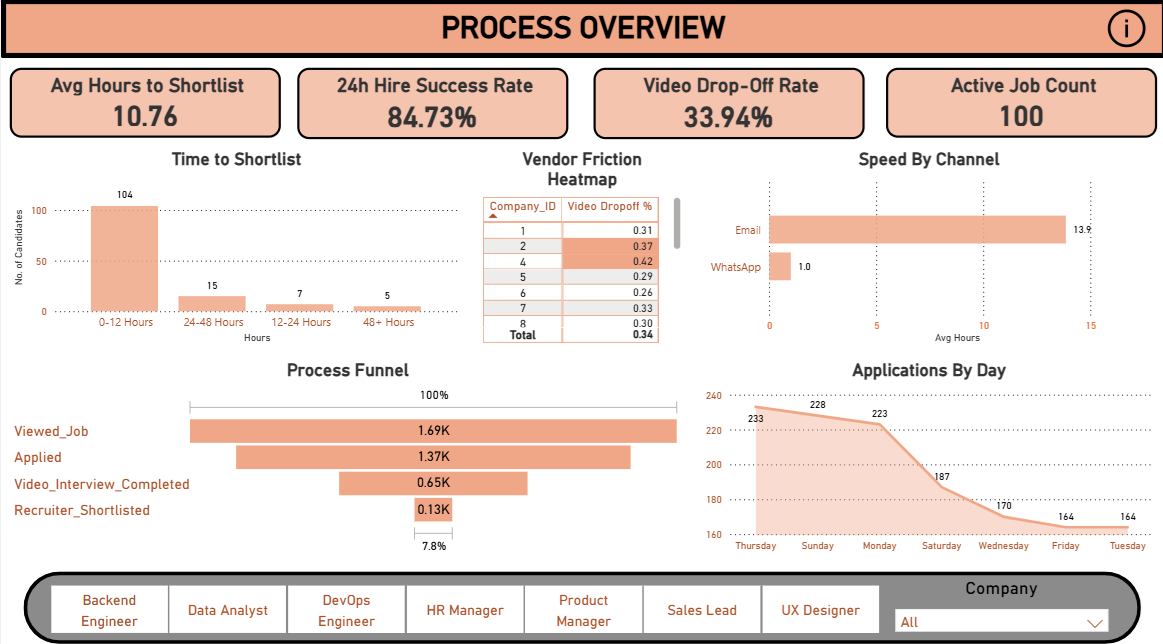

Layout of this report page (visuals, bound fields, positions):
{"tool":"powerbi","page":{"name":"Overview","canvas":[1280,720],"ordinal":0},"visuals":[{"type":"textbox","box":[0,0,1279.8,65],"z":0},{"type":"card","title":"Avg Hours to Shortlist","fields":{"Values":["Avg(Funnel_Analysis_Table.Hours_To_Shortlist)"]},"box":[9.6,75.5,297.8,76.8],"z":1000},{"type":"card","title":"24h Hire Success Rate","fields":{"Values":["AI_Log_v3_FINAL.Success Rate"]},"box":[325.2,75.5,297.8,78.2],"z":2000},{"type":"card","title":"Active Job Count","fields":{"Values":["Count(Jobs_Master_v3.Job_ID)"]},"box":[971.5,75.5,297.8,76.8],"z":3000},{"type":"card","title":"Video Drop-Off Rate","fields":{"Values":["AI_Log_v3_FINAL.Video Dropoff %"]},"box":[650.4,75.5,297.8,78.2],"z":4000},{"type":"clusteredColumnChart","title":"Time to Shortlist ","fields":{"Y":["CountNonNull(Funnel_Analysis_Table.User_ID)"],"Category":["Funnel_Analysis_Table.Shortlist_Speed_Bins"]},"box":[9.6,164.7,498.1,218.2],"z":5000},{"type":"clusteredBarChart","title":"Speed By Channel","fields":{"Category":["Candidates_Master_v3_FINAL.Preferred_Communication"],"Y":["Avg(Funnel_Analysis_Table.Hours_App_to_Video)"]},"box":[768.4,164.7,500.9,218.2],"z":6000},{"type":"funnel","title":"Process Funnel","fields":{"Category":["Funnel_Events_v3_FINAL.Event_Type"],"Y":["CountNonNull(Funnel_Events_v3_FINAL.User_ID)"]},"box":[9.6,396.6,742.4,218.2],"z":7000},{"type":"pivotTable","title":"Vendor Friction Heatmap","fields":{"Rows":["Jobs_Master_v3.Company_ID"],"Values":["AI_Log_v3_FINAL.Video Dropoff %"]},"box":[524.2,164.7,227.8,218.2],"z":8000},{"type":"areaChart","title":"Applications By Day","fields":{"Category":["Funnel_Analysis_Table.Day_Name"],"Y":["CountNonNull(Funnel_Analysis_Table.User_ID)"]},"box":[768.4,396.6,500.9,218.2],"z":9000},{"type":"shape","box":[24.7,628.5,1226.8,79.6],"z":10000},{"type":"slicer","fields":{"Values":["Jobs_Master_v3.Role_Title"]},"box":[28.8,636.7,959.2,59],"z":11000},{"type":"slicer","title":"Company","fields":{"Values":["Jobs_Master_v3.Company_ID"]},"box":[971.5,635.3,253.9,59],"z":12000},{"type":"actionButton","box":[1208.9,5.5,60.4,53.5],"z":13000}]}

Visuals, with their boxes in screenshot pixels (x1, y1, x2, y2), scaled from the page's 1280x720 canvas onto the 1163x644 screenshot:
textbox: box(0, 0, 1162, 58)
"Avg Hours to Shortlist" card: box(9, 68, 279, 136)
"24h Hire Success Rate" card: box(295, 68, 566, 137)
"Active Job Count" card: box(883, 68, 1153, 136)
"Video Drop-Off Rate" card: box(591, 68, 862, 137)
"Time to Shortlist " clusteredColumnChart: box(9, 147, 461, 342)
"Speed By Channel" clusteredBarChart: box(698, 147, 1153, 342)
"Process Funnel" funnel: box(9, 355, 683, 550)
"Vendor Friction Heatmap" pivotTable: box(476, 147, 683, 342)
"Applications By Day" areaChart: box(698, 355, 1153, 550)
shape: box(22, 562, 1137, 633)
slicer - Jobs_Master_v3.Role_Title: box(26, 569, 898, 622)
"Company" slicer: box(883, 568, 1113, 621)
actionButton: box(1098, 5, 1153, 53)
